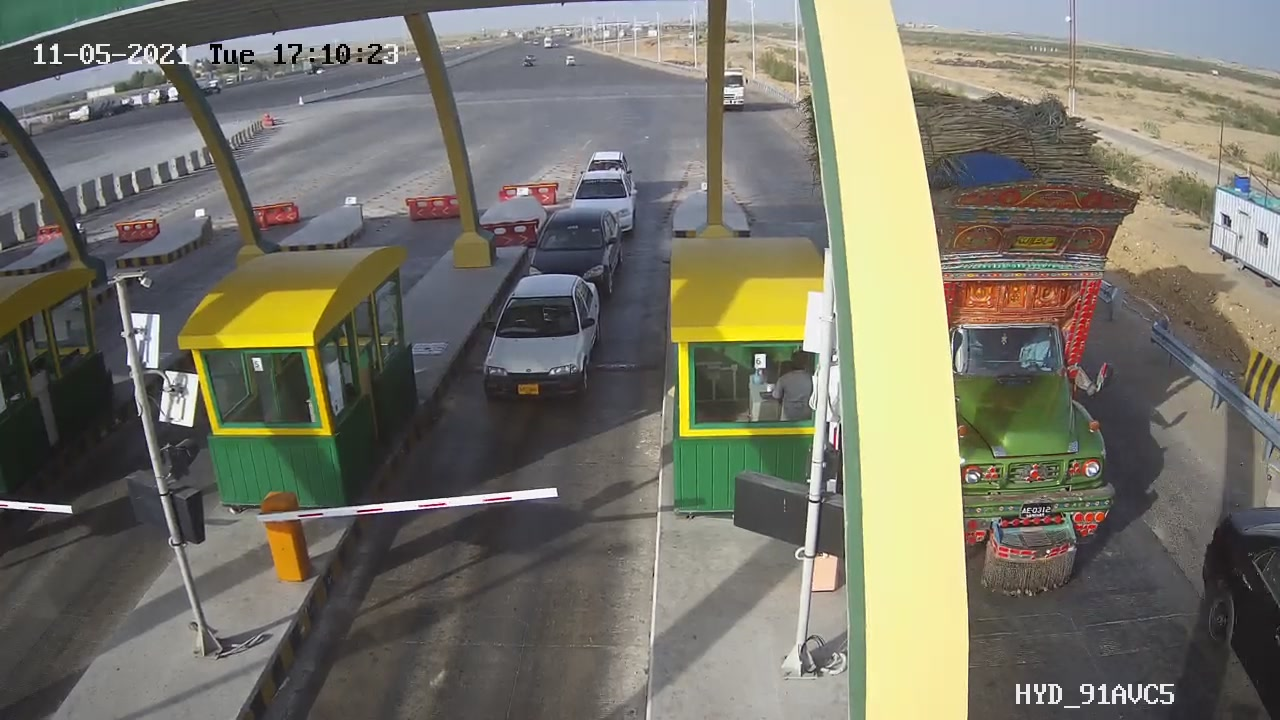F1: (461, 268, 622, 414), (513, 199, 639, 308)
